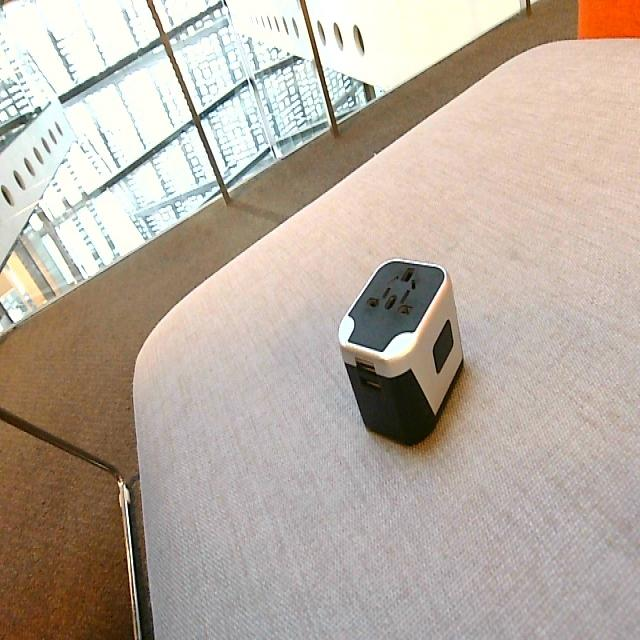adapter: (337, 256, 464, 447)
